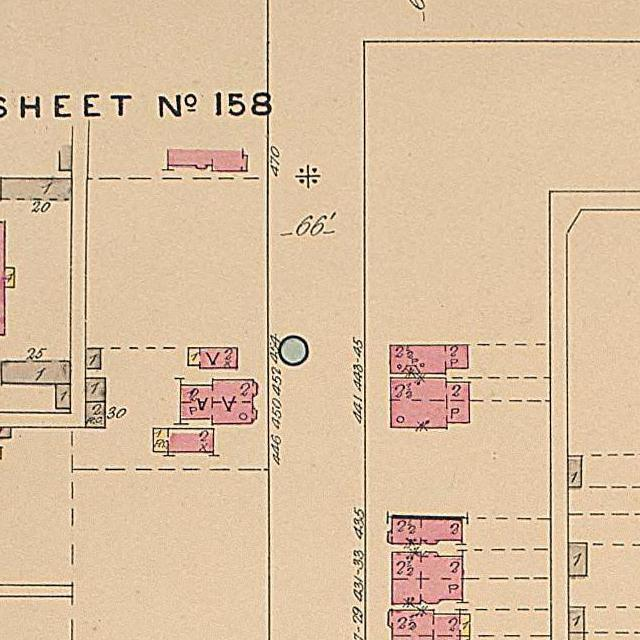building-footprints: (390, 378, 469, 428), (391, 552, 463, 604), (180, 379, 258, 424), (388, 610, 470, 640), (390, 345, 468, 374), (387, 518, 462, 545), (168, 150, 247, 172), (1, 361, 70, 384), (1, 178, 72, 200), (153, 428, 214, 453), (188, 347, 238, 369), (568, 542, 588, 576), (86, 402, 105, 428), (86, 378, 105, 402), (568, 607, 584, 633), (568, 455, 581, 487), (56, 384, 71, 409), (86, 348, 101, 369), (60, 150, 72, 170), (0, 427, 11, 438), (569, 632, 584, 640)
